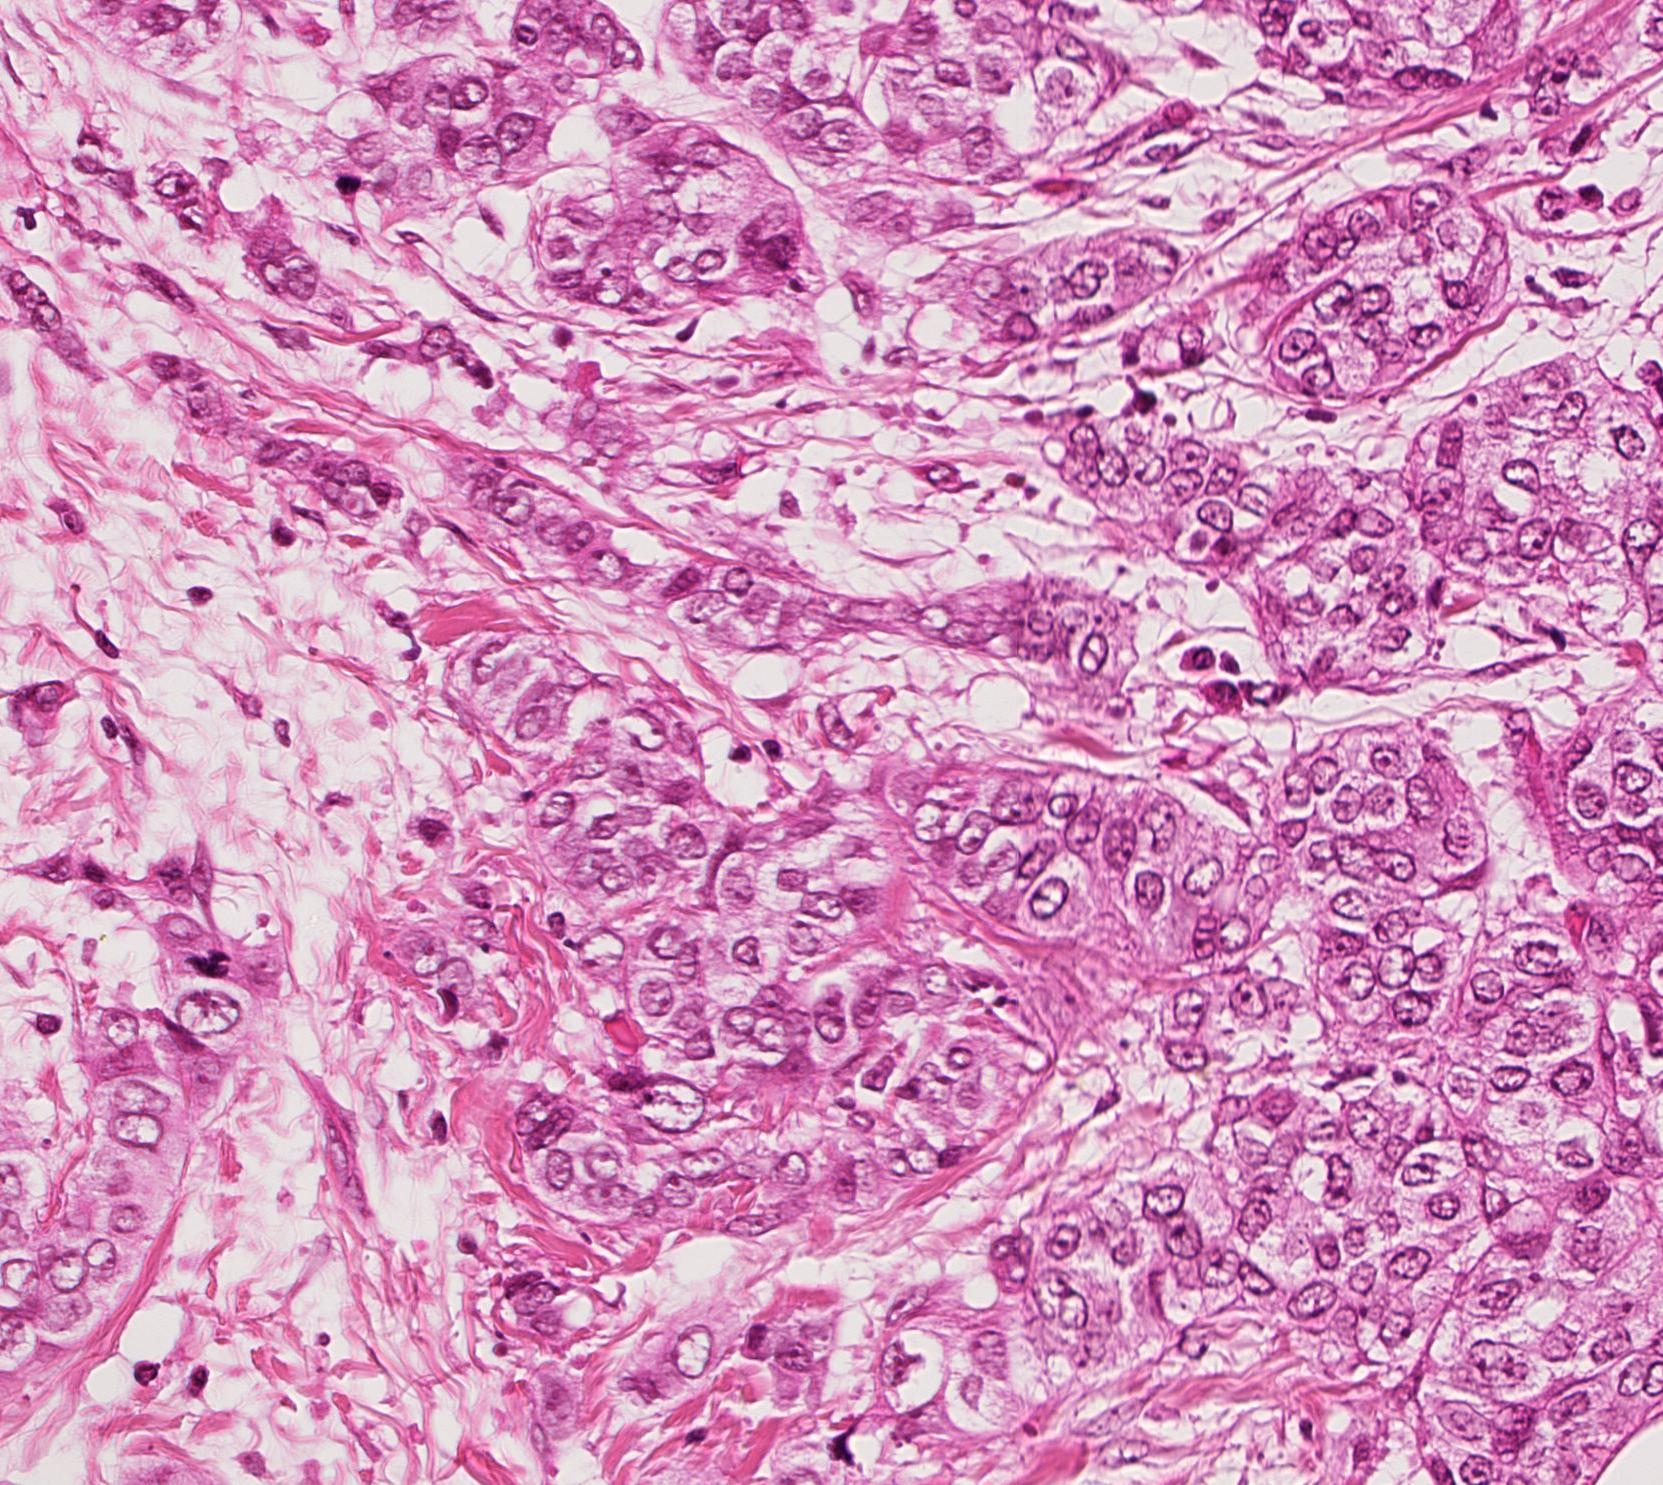mitosis: (181, 932, 239, 992)
